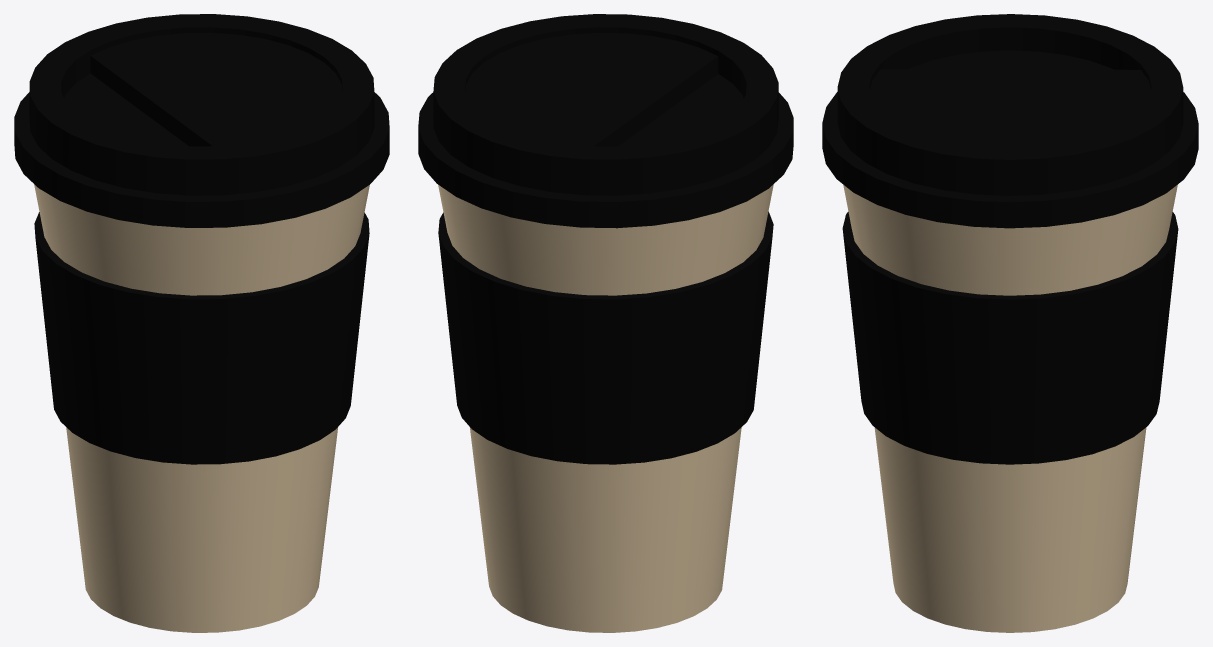
File: cup.glb
3 views of the same model, side by side, from view 1: azimuth 30°, elevation 25°; view 2: azimuth 150°, elevation 25°; view 3: azimuth 270°, elevation 25° (orthographic).
Parts seen in each view (by area): view 1: Kaffeebecher; view 2: Kaffeebecher; view 3: Kaffeebecher.
Boxes of the visible parts, bbox=[...] form: Kaffeebecher: bbox=[14, 14, 389, 632]; Kaffeebecher: bbox=[418, 14, 793, 632]; Kaffeebecher: bbox=[822, 14, 1198, 632].
Bounding box in the file's own units: 1.94 × 2.82 × 1.94.
